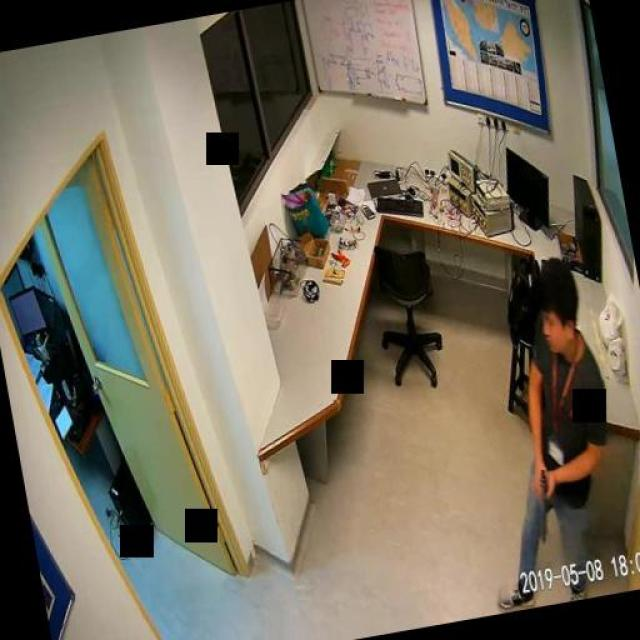gun: (524, 466, 558, 545)
